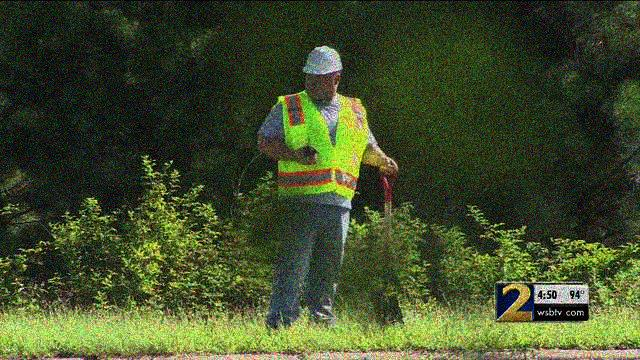helmet: (302, 46, 345, 101)
